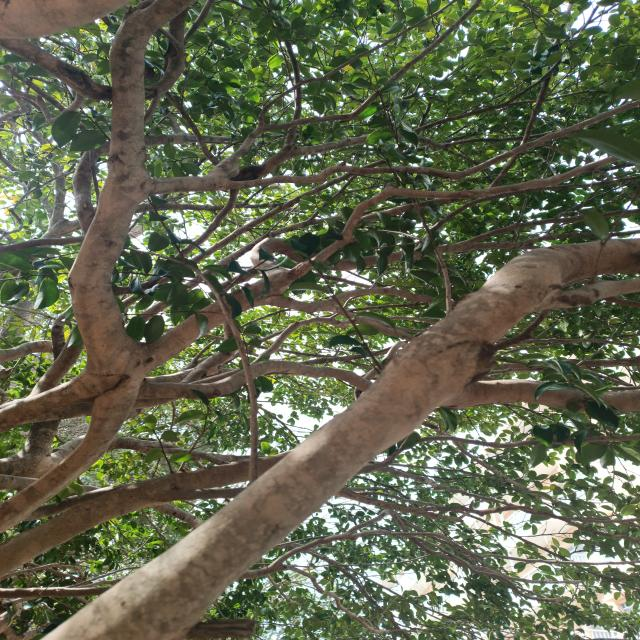Branch: (42, 237, 640, 640), (67, 0, 200, 370), (0, 451, 289, 575), (0, 372, 145, 532), (149, 268, 295, 367), (444, 377, 640, 417), (182, 318, 242, 382), (146, 133, 229, 145)
Twig: (205, 1, 481, 177), (151, 98, 640, 193), (294, 153, 625, 279), (190, 146, 419, 265), (140, 216, 346, 321), (137, 359, 371, 399), (236, 135, 368, 181), (159, 77, 220, 165), (267, 286, 436, 313), (253, 316, 353, 361), (329, 305, 415, 340), (281, 40, 302, 151)
